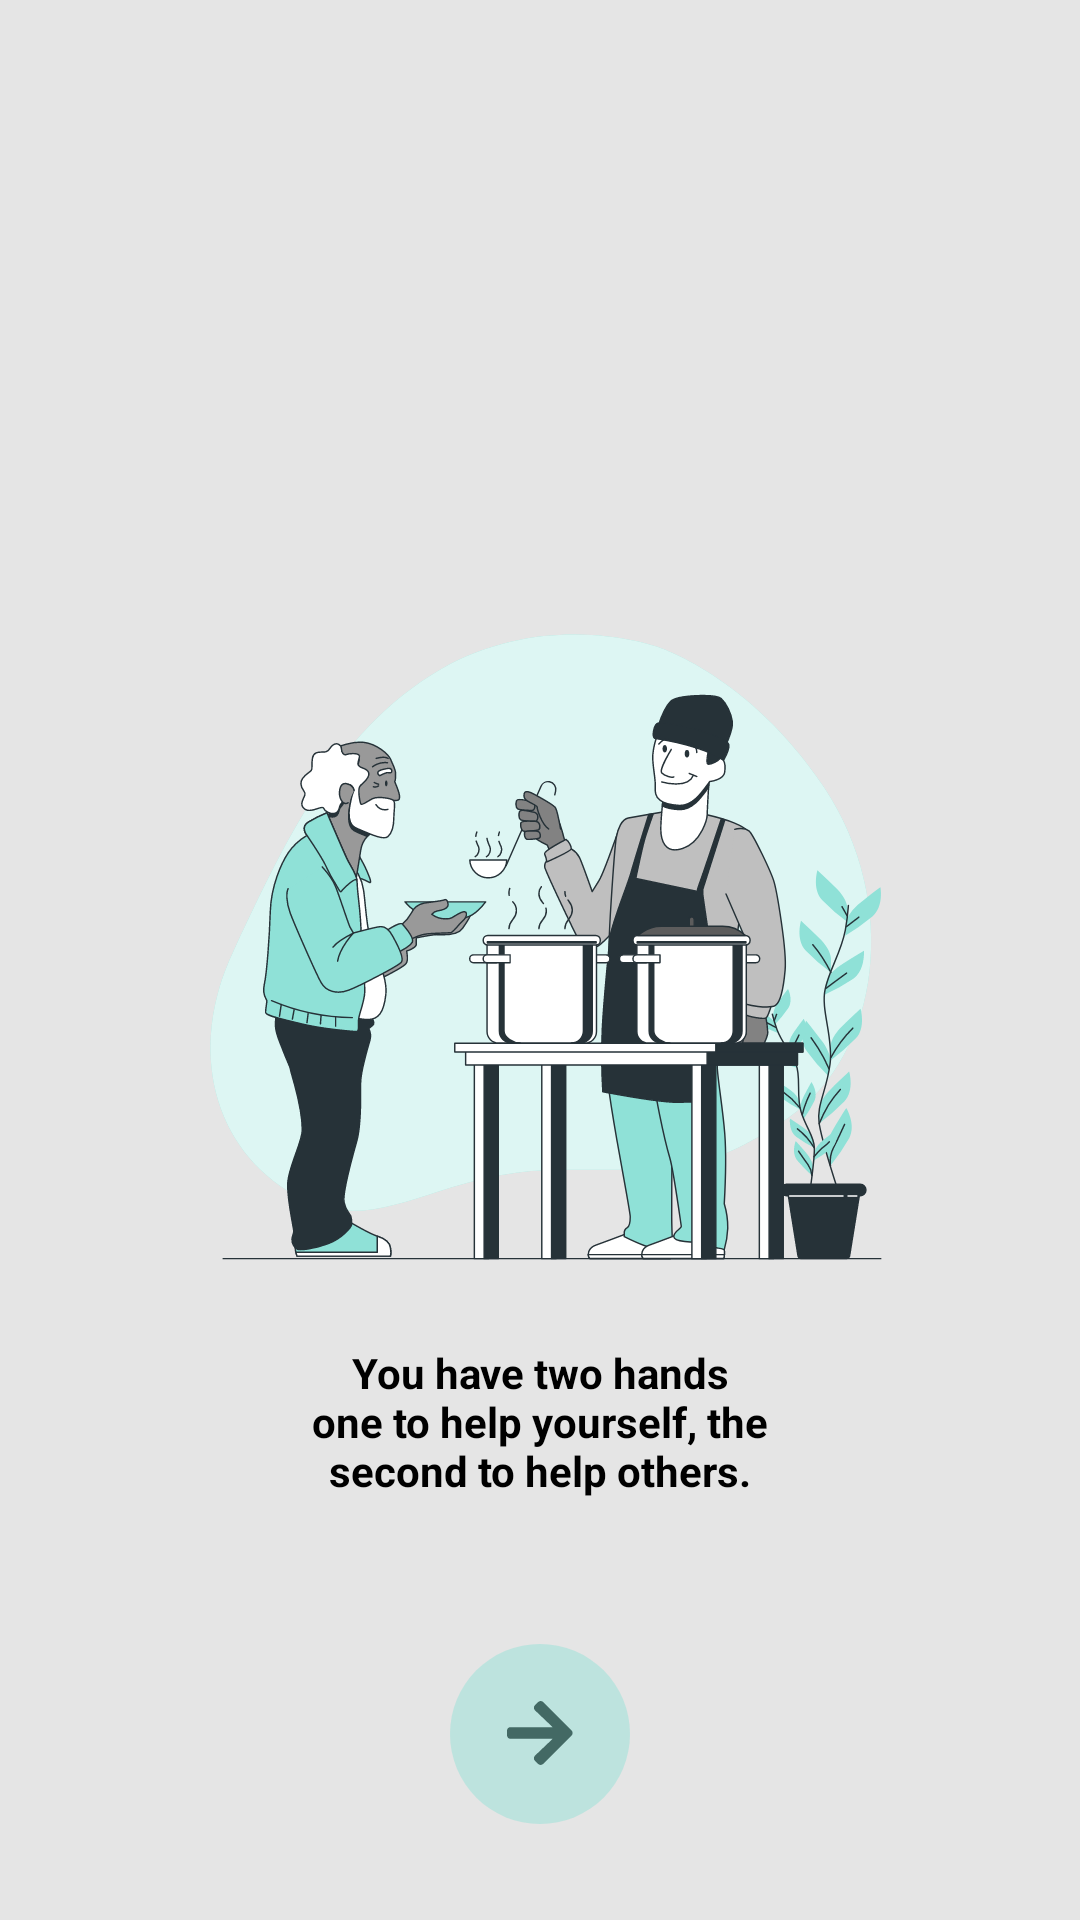

Icons on this 1080*1920 Android screen, each with its box as (x1, y1, x2, y2):
arrow: (507, 1701, 573, 1765)
